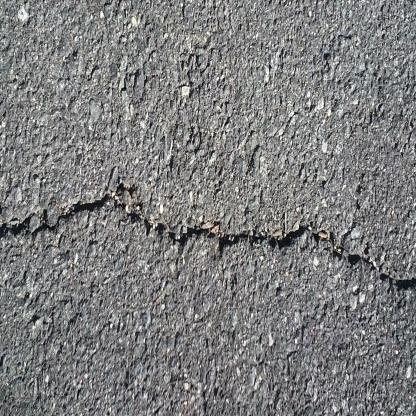Cracks: (0, 183, 416, 298)
